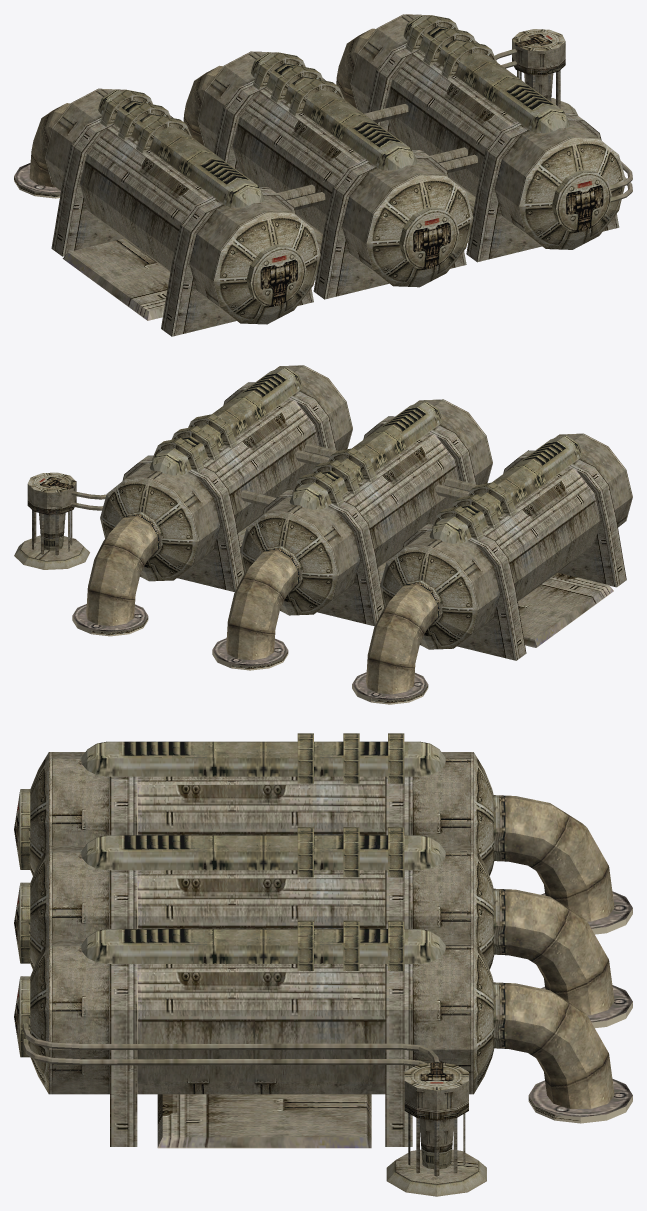
Rendered from eaw_fuelCellC.glb.
The picture shows the model from 3 angles, top to bottom: view 1: azimuth 30°, elevation 25°; view 2: azimuth 150°, elevation 25°; view 3: azimuth 270°, elevation 25°; orthographic projection. The views are drawn at different scales.
Visible parts, largest first — view 1: w_fuel_cell00_0; view 2: w_fuel_cell00_0; view 3: w_fuel_cell00_0.
Part boxes in pixels (bbox=[...]): w_fuel_cell00_0: bbox=[14, 14, 632, 336]; w_fuel_cell00_0: bbox=[14, 365, 632, 704]; w_fuel_cell00_0: bbox=[14, 733, 632, 1196].
Size of the model in its own units: 30.04 by 7.97 by 23.79.
Materials: 1 (1 with a texture image).
